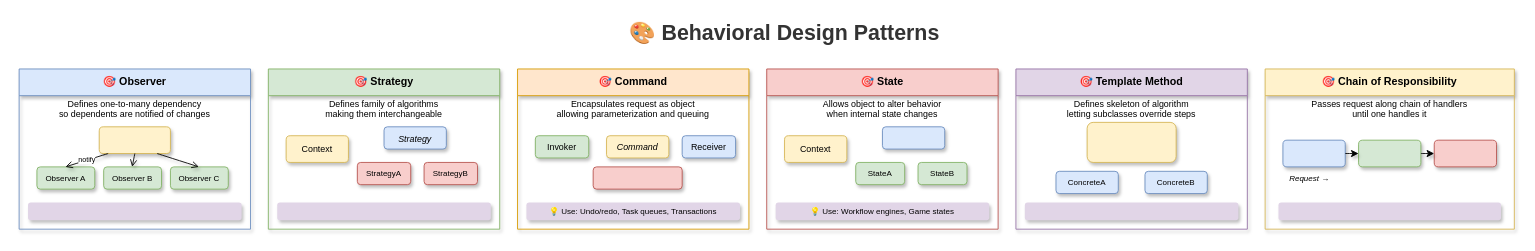
This 1535x251 diagram has some shape labels left out. Each missing label, with the centre of its shape:
"AbstractClass +templateMethod() #step1() #step2()" goes at pixel 1132 143.
"ConcreteCommand" goes at pixel 638 178.
"Handler A" goes at pixel 1314 154.
"Handler B" goes at pixel 1390 154.
"Handler C" goes at pixel 1466 154.
"State" goes at pixel 914 138.
"Subject" goes at pixel 135 141.
"💡 Use: Event systems, Reactive programming" goes at pixel 135 212.
"💡 Use: Frameworks, Lifecycle hooks" goes at pixel 1132 212.
"💡 Use: Middleware, Validation, Event handling" goes at pixel 1390 212.
"💡 Use: Payment processing, Sorting algorithms" goes at pixel 384 212.
